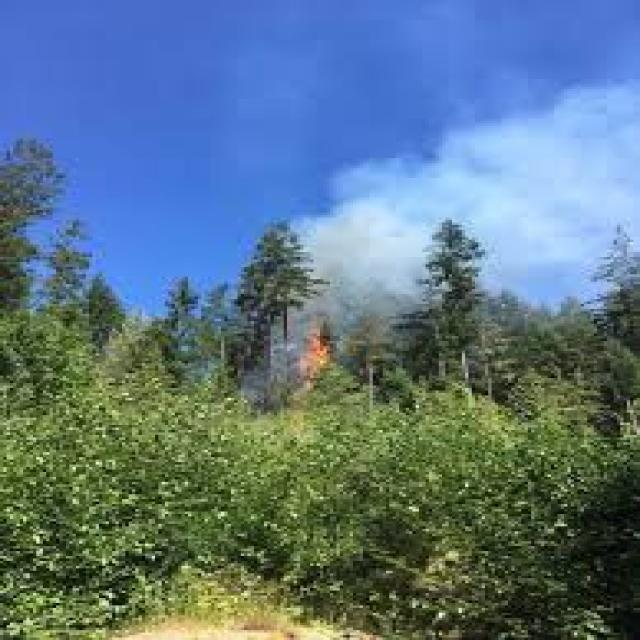Fire: (272, 314, 354, 404)
Smoke: (312, 100, 636, 318)
